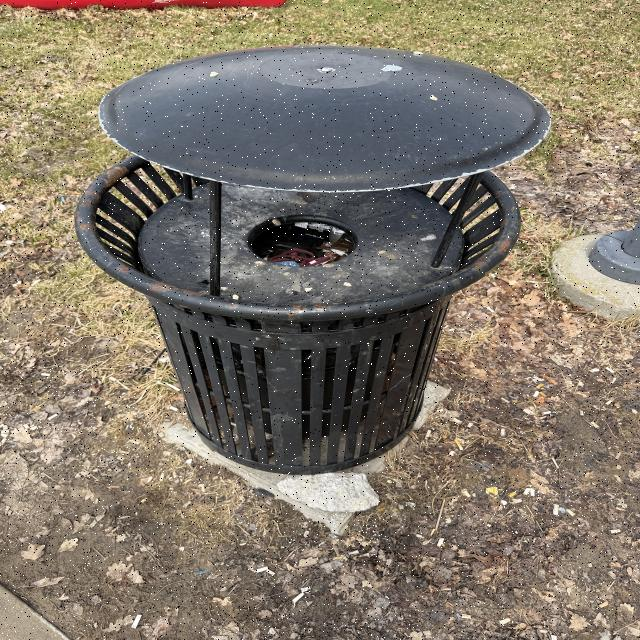Dustbin: (71, 49, 550, 477)
